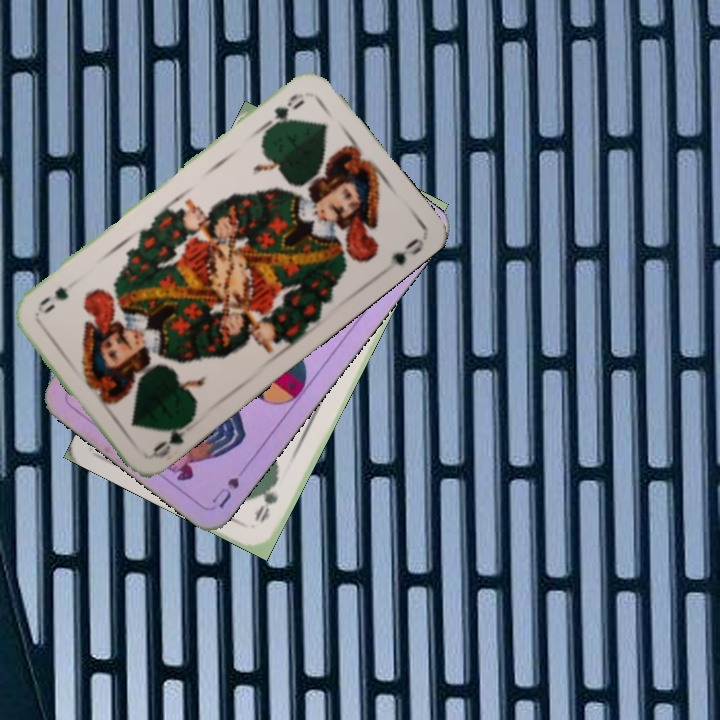GO: (148, 413, 196, 461), (258, 89, 307, 134), (250, 470, 282, 526)
SU: (208, 473, 242, 511)
